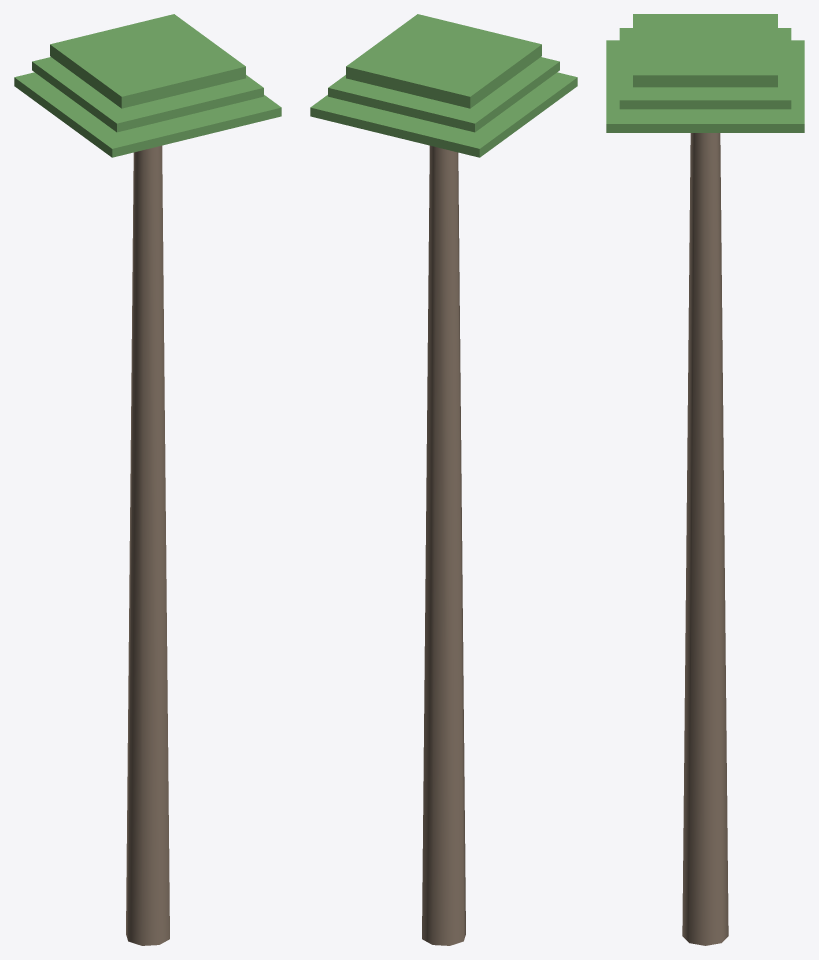
Rendered from palmyra_palm.glb.
3 renders of one model, left to right at view 1: azimuth 30°, elevation 25°; view 2: azimuth 150°, elevation 25°; view 3: azimuth 270°, elevation 25°, orthographic.
Visible parts, largest first — view 1: Trunk_Node, FrondCrown_2_Node, FrondCrown_0_Node, FrondCrown_1_Node; view 2: Trunk_Node, FrondCrown_2_Node, FrondCrown_0_Node, FrondCrown_1_Node; view 3: Trunk_Node, FrondCrown_2_Node, FrondCrown_0_Node, FrondCrown_1_Node.
Boxes of the visible parts, x1,y1,x2,y2 form: Trunk_Node: (126, 145, 169, 945); FrondCrown_2_Node: (50, 14, 245, 108); FrondCrown_0_Node: (14, 72, 281, 157); FrondCrown_1_Node: (32, 57, 263, 132); Trunk_Node: (422, 145, 465, 945); FrondCrown_2_Node: (346, 14, 541, 108); FrondCrown_0_Node: (310, 72, 577, 157); FrondCrown_1_Node: (328, 57, 559, 132); Trunk_Node: (682, 133, 728, 945); FrondCrown_2_Node: (633, 14, 777, 87); FrondCrown_0_Node: (606, 40, 804, 132); FrondCrown_1_Node: (619, 28, 791, 109).
Bounding box in the file's own units: 3 × 14.9 × 3.
